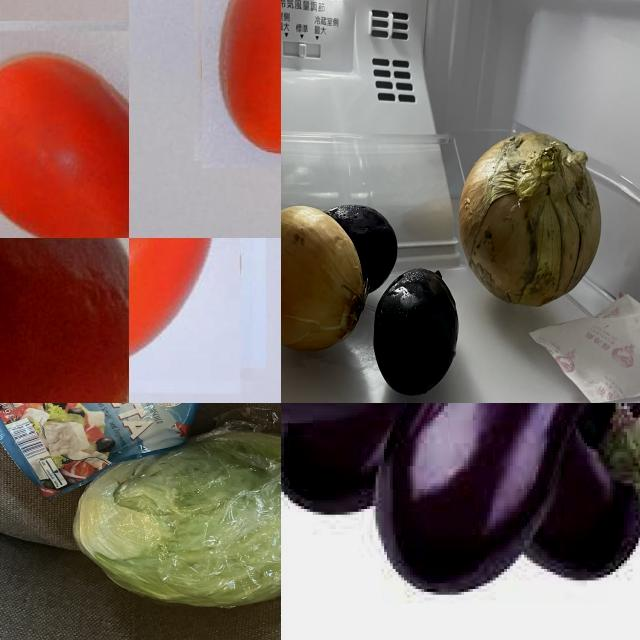cabbage: (53, 419, 282, 614)
eggplant: (376, 404, 640, 592), (527, 404, 640, 541), (374, 263, 464, 403), (326, 209, 402, 295)
onion: (460, 132, 604, 307), (282, 204, 368, 365)
tomato: (1, 27, 130, 239), (130, 239, 254, 382), (198, 1, 282, 165)
